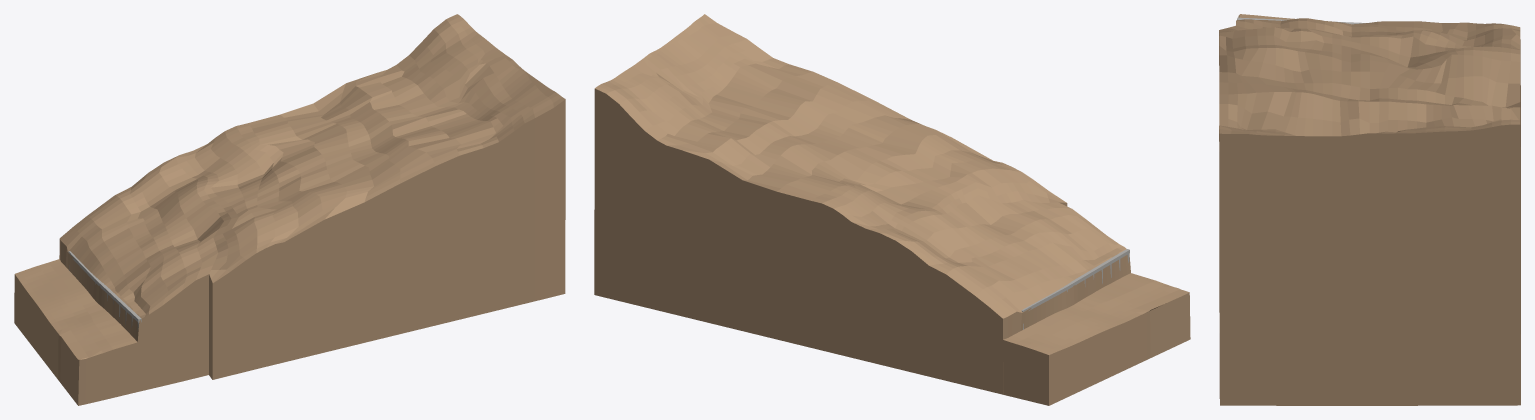
File: ngl.glb
3 renders of one model, left to right at view 1: azimuth 30°, elevation 25°; view 2: azimuth 150°, elevation 25°; view 3: azimuth 270°, elevation 25°, orthographic. The views are drawn at different scales.
Parts seen in each view (by area): view 1: Terrain 01 - NGL.003, Cube.200; view 2: Terrain 01 - NGL.003, Cube.200; view 3: Terrain 01 - NGL.003.
Part boxes in pixels (box(x1,y1,x2,y2)): Terrain 01 - NGL.003: box(14, 14, 565, 405); Cube.200: box(68, 251, 141, 322); Terrain 01 - NGL.003: box(594, 14, 1190, 405); Cube.200: box(1021, 249, 1129, 311); Terrain 01 - NGL.003: box(1219, 14, 1520, 405).
Bounding box in the file's own units: 45.8 × 18.31 × 17.83.
